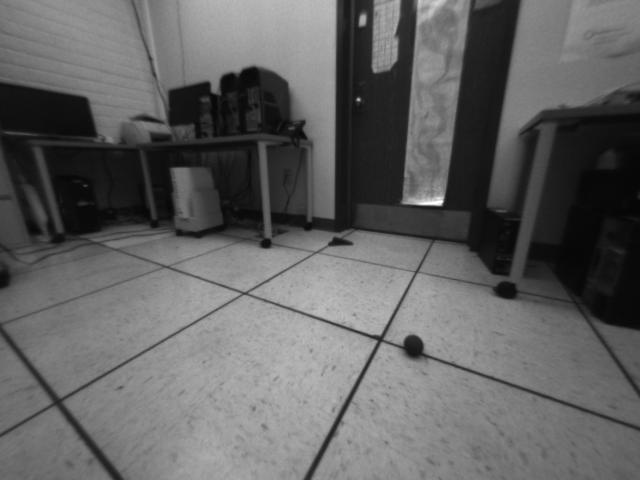dogtoy: (397, 330, 433, 363)
